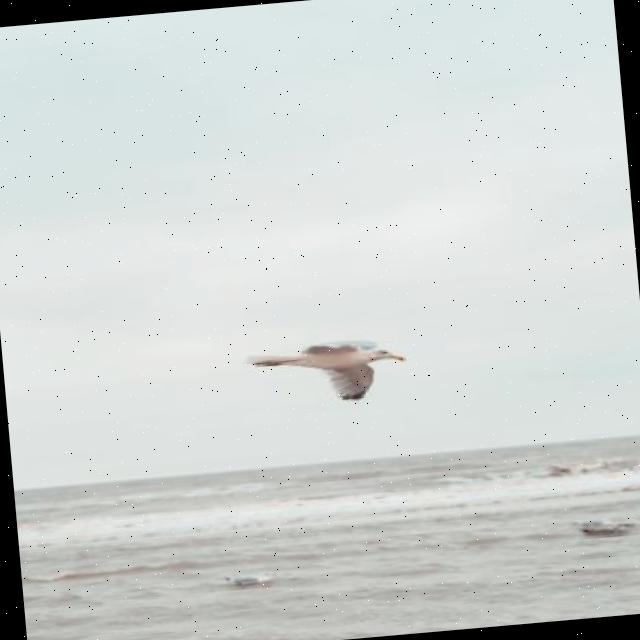bird: (241, 334, 408, 412)
